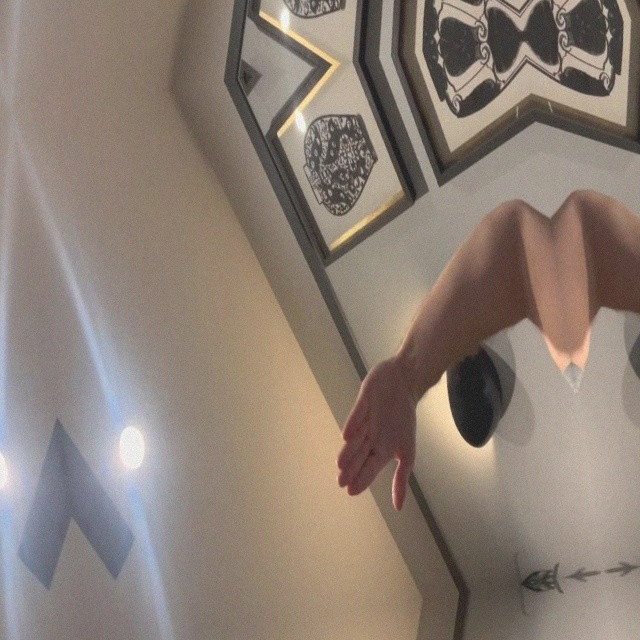Paper: (319, 350, 433, 522)
